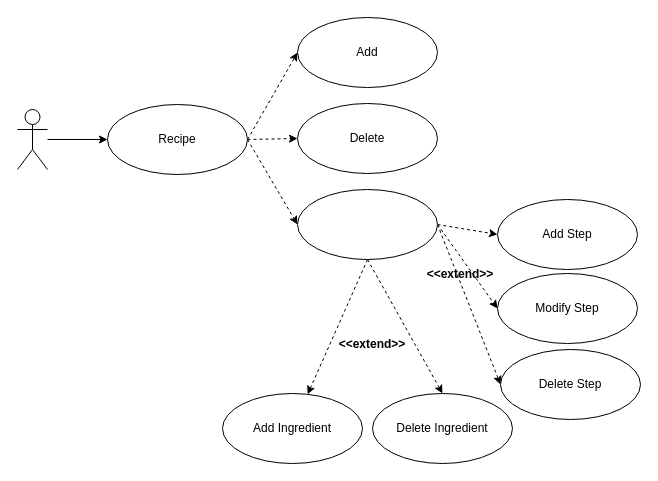
This 658x481 diagram has some shape labels left out. The centre of each missing label's shape, as x and y in pixels:
"Actor" goes at pixel 32 139.
"Edit" goes at pixel 367 224.
